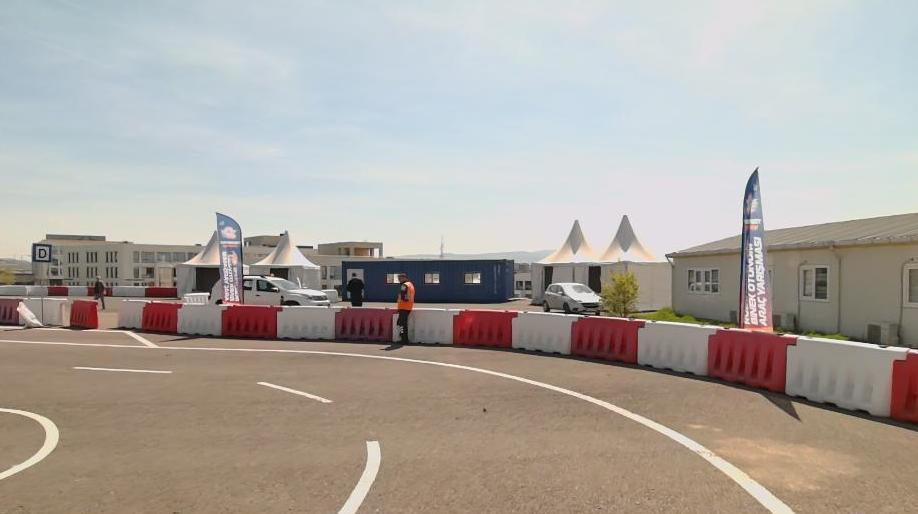nesne: (0, 339, 794, 513), (1, 339, 794, 513), (4, 341, 797, 514), (0, 364, 380, 512), (785, 336, 906, 416), (707, 326, 796, 392), (638, 320, 717, 376), (0, 408, 58, 479), (570, 314, 646, 364), (0, 325, 157, 348), (0, 325, 159, 347), (208, 275, 329, 302), (337, 442, 379, 513), (511, 311, 577, 355), (453, 308, 517, 348), (277, 305, 339, 339), (222, 304, 282, 338), (335, 306, 391, 341), (891, 348, 917, 423), (409, 307, 459, 345), (543, 282, 604, 313), (391, 272, 416, 344), (258, 380, 331, 402), (178, 302, 225, 336), (142, 301, 182, 333), (24, 297, 65, 326), (116, 297, 146, 330), (69, 299, 97, 329), (75, 366, 168, 374), (31, 242, 52, 261)
